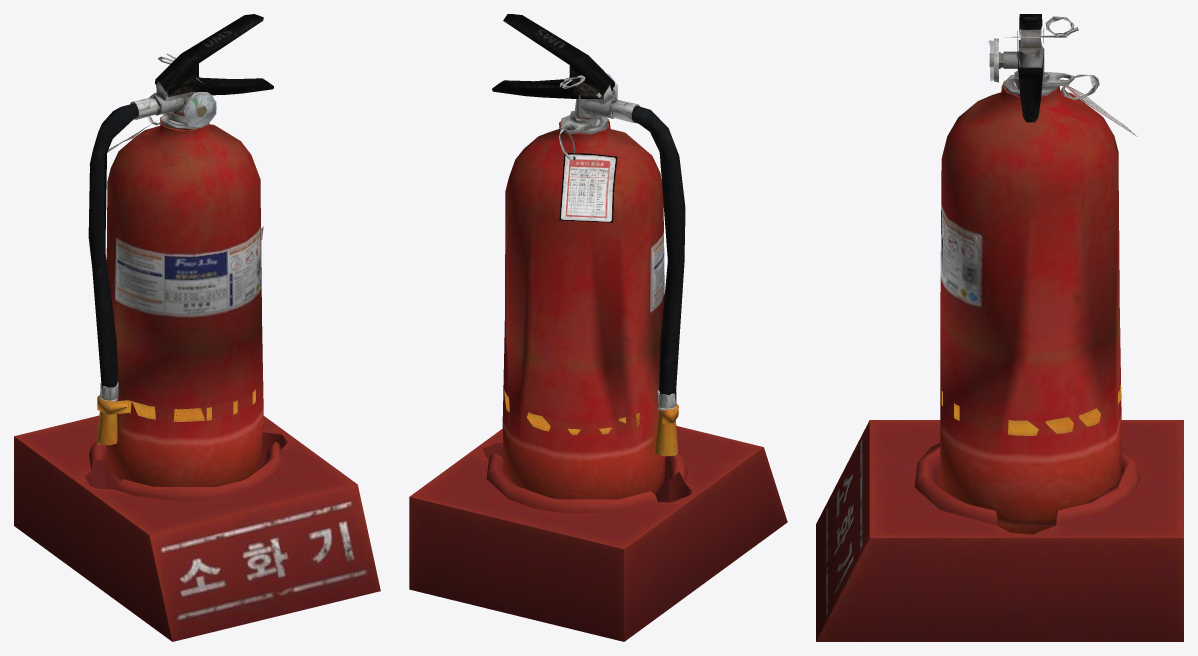
The model's file is korean_fire_extinguisher_01_game.gltf.
3 renders of one model, left to right at view 1: azimuth 30°, elevation 25°; view 2: azimuth 150°, elevation 25°; view 3: azimuth 270°, elevation 25°, orthographic. The views are drawn at different scales.
Parts seen in each view (by area): view 1: korean_fire_extinguisher_01; view 2: korean_fire_extinguisher_01; view 3: korean_fire_extinguisher_01.
Boxes of the visible parts, bbox=[...] form: korean_fire_extinguisher_01: bbox=[14, 14, 380, 641]; korean_fire_extinguisher_01: bbox=[409, 14, 787, 641]; korean_fire_extinguisher_01: bbox=[816, 14, 1183, 641].
Bounding box in the file's own units: 0.279 × 0.6581 × 0.3674.
Materials: 3 (3 with a texture image).
